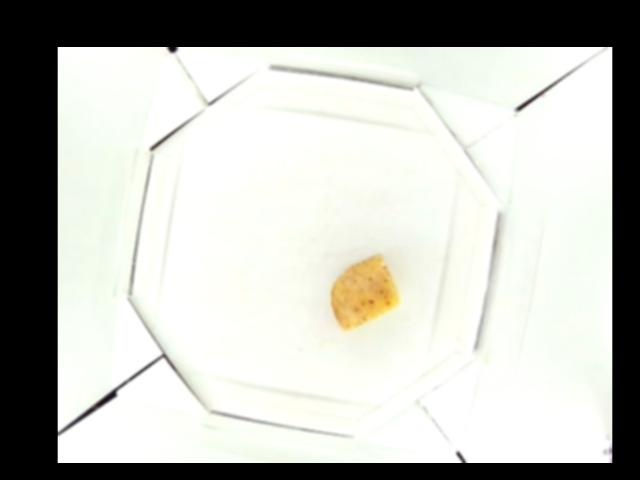Potato: (332, 254, 399, 328)
